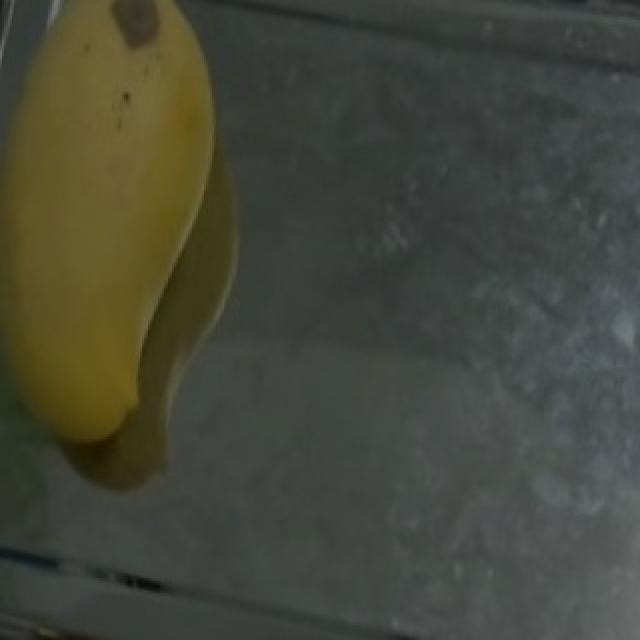fruit: (4, 2, 258, 382)
